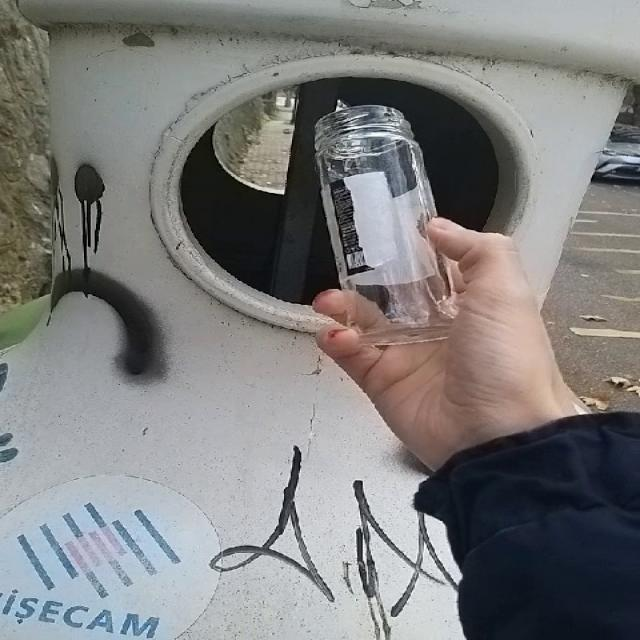Glass: (315, 105, 456, 345)
